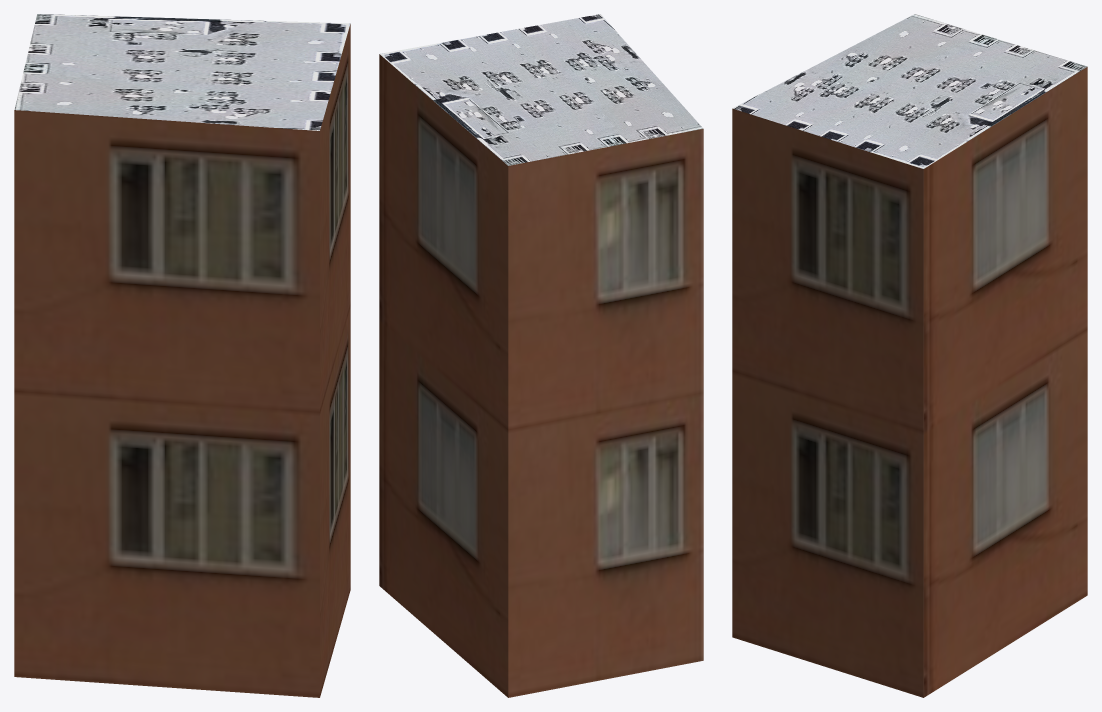
The model's file is ResTex__4610.fbx.
3 renders of one model, left to right at view 1: azimuth 30°, elevation 25°; view 2: azimuth 150°, elevation 25°; view 3: azimuth 270°, elevation 25°, orthographic. The views are drawn at different scales.
Parts seen in each view (by area): view 1: CityEngineMaterial_20_m, CityEngineMaterial_m; view 2: CityEngineMaterial_20_m, CityEngineMaterial_m; view 3: CityEngineMaterial_20_m, CityEngineMaterial_m.
Boxes of the visible parts, x1,y1,x2,y2 form: CityEngineMaterial_20_m: (14, 24, 350, 697); CityEngineMaterial_m: (14, 14, 350, 130); CityEngineMaterial_20_m: (379, 54, 703, 697); CityEngineMaterial_m: (380, 14, 703, 165); CityEngineMaterial_20_m: (732, 67, 1087, 697); CityEngineMaterial_m: (732, 14, 1087, 168).
Size of the model in its own units: 3.77 by 6 by 3.66.
2 materials, 2 textured.
